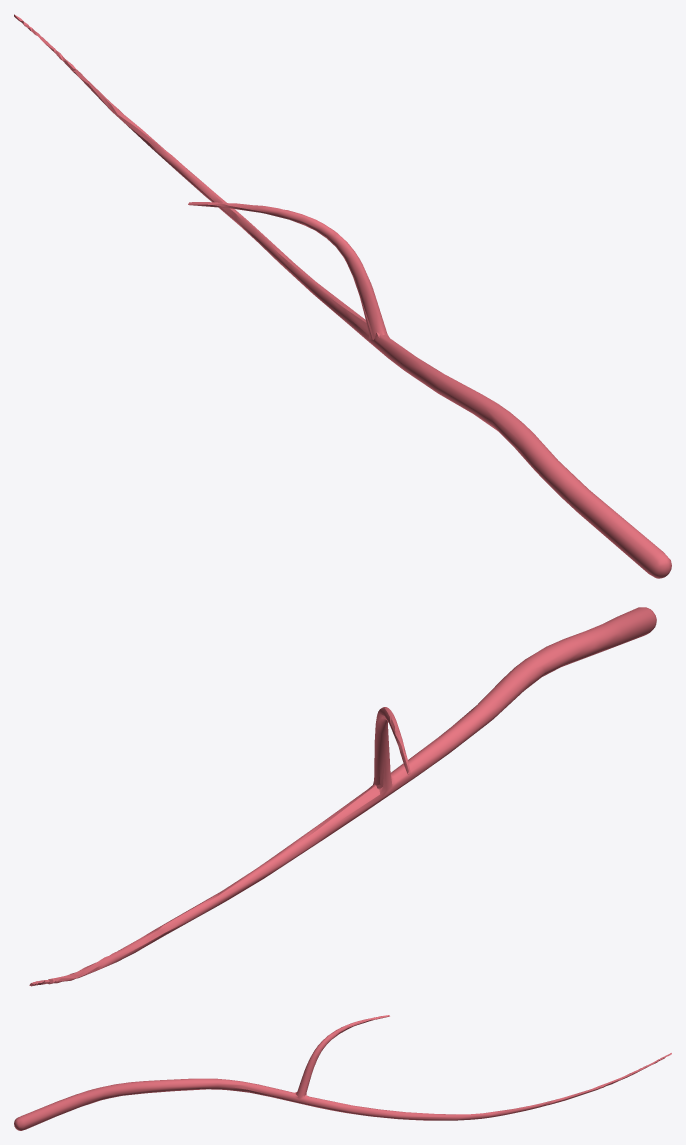
File: fma50361_fj1671.glb
3 renders of one model, top to bottom at view 1: azimuth 30°, elevation 25°; view 2: azimuth 150°, elevation 25°; view 3: azimuth 270°, elevation 25°, orthographic. The views are drawn at different scales.
Parts seen in each view (by area): view 1: FMA50361_FJ1671; view 2: FMA50361_FJ1671; view 3: FMA50361_FJ1671.
Boxes of the visible parts, x1,y1,x2,y2 form: FMA50361_FJ1671: (14,14,671,578); FMA50361_FJ1671: (29,607,656,986); FMA50361_FJ1671: (14,1015,671,1130).
Size of the model in its own units: 0.00752 by 0.00791 by 0.0543.
